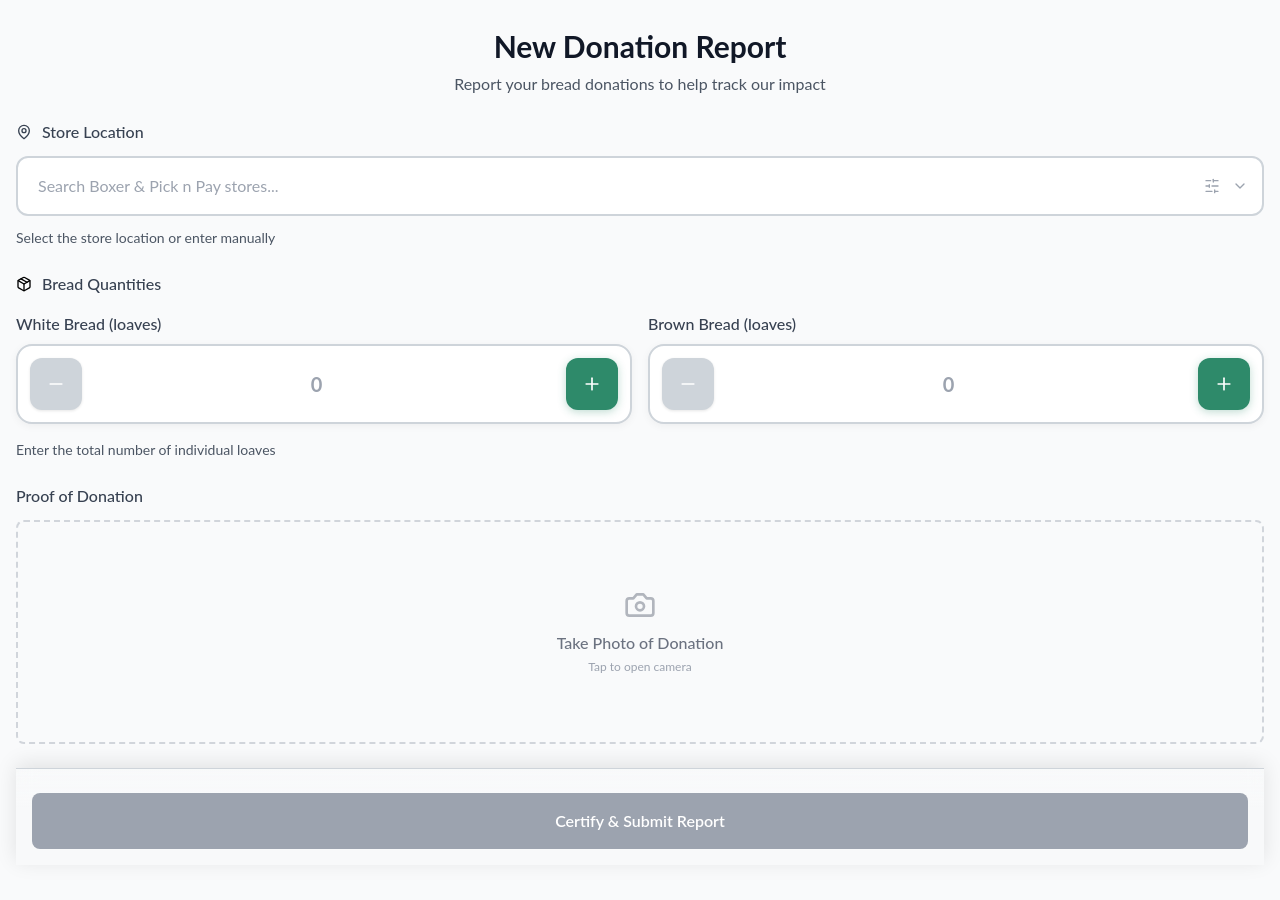
DonationForm › handles quantity button clicks
# Click the first increment button (white bread)
Click the 4th button: {"x": 592, "y": 384} 566,358 -> 618,410
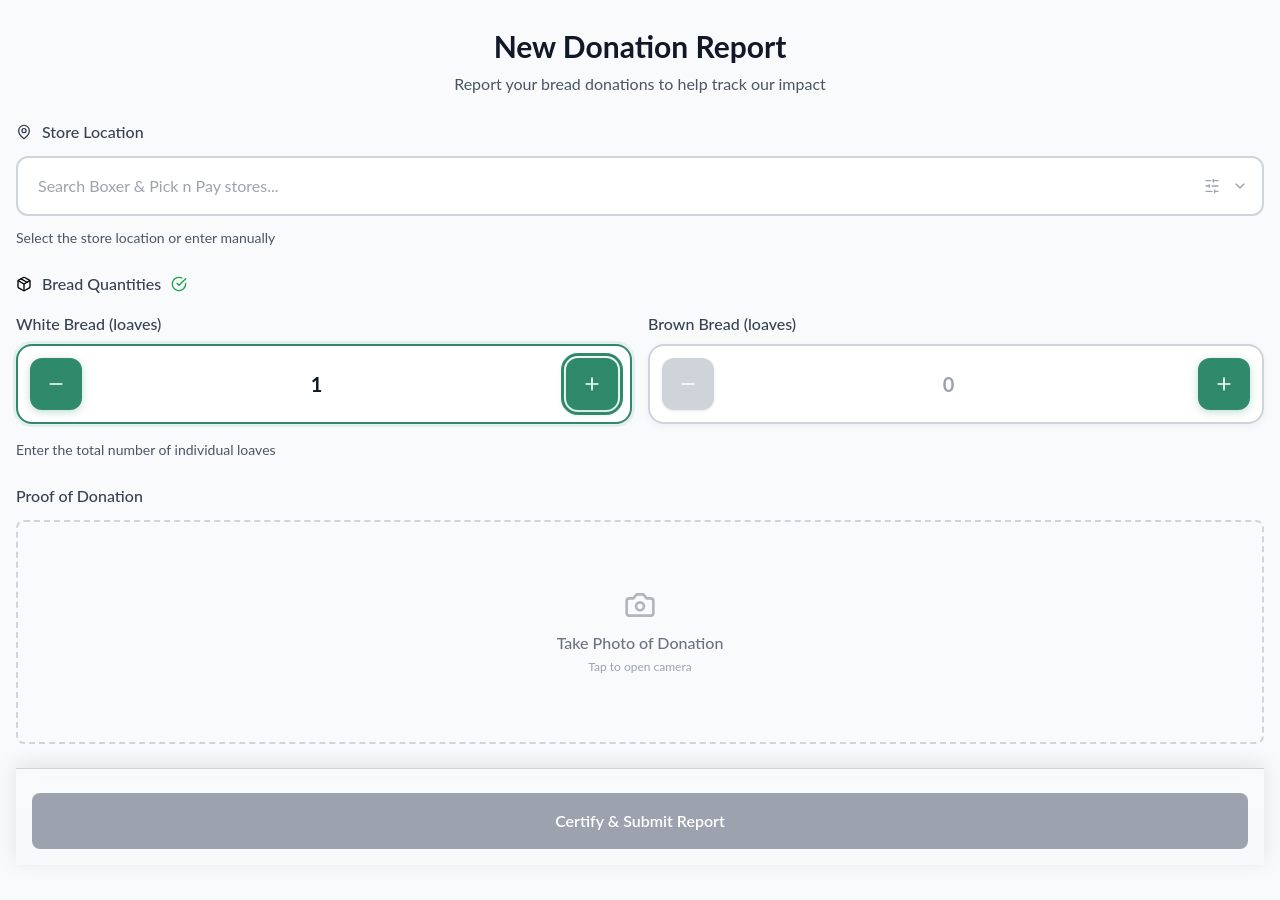
Check: the 1st number field holds "1", box 94,358 -> 554,410
